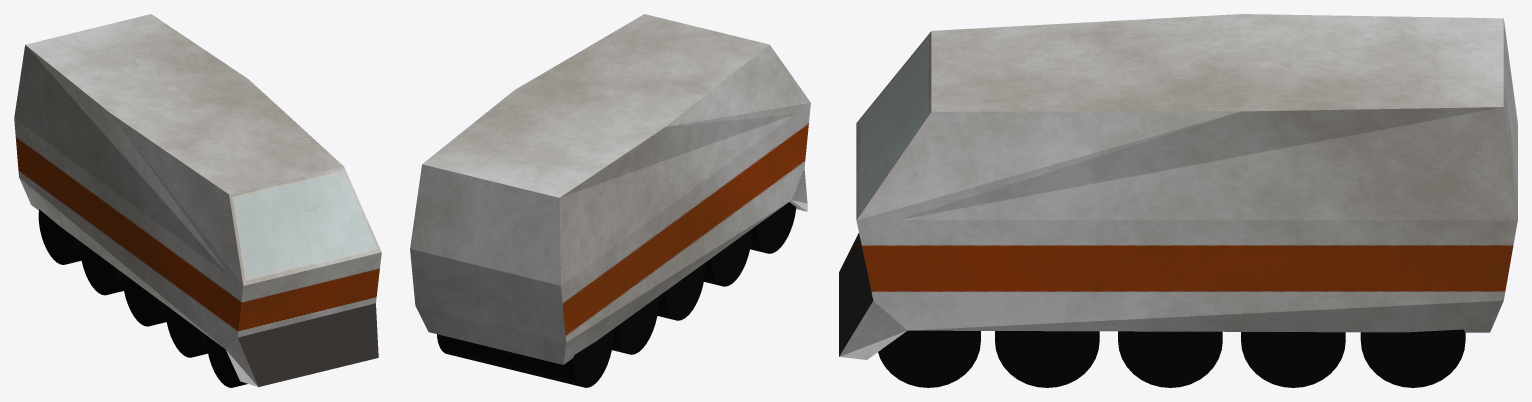
Rendered from train.dae.
3 renders of one model, left to right at view 1: azimuth 30°, elevation 25°; view 2: azimuth 150°, elevation 25°; view 3: azimuth 270°, elevation 25°, orthographic. The views are drawn at different scales.
Visible parts, largest first — view 1: Engine, Wheel 5, Wheel 4, Wheel 3, Wheel 2, Wheel 1; view 2: Engine, Wheel 5, Wheel 4, Wheel 3, Wheel 2, Wheel 1; view 3: Engine, Wheel 3, Wheel 2, Wheel 5, Wheel 4, Wheel 1.
Part boxes in pixels (x1,y1,x2,y2): Engine: [14, 14, 381, 386]; Wheel 5: [38, 209, 81, 264]; Wheel 4: [80, 242, 123, 295]; Wheel 3: [122, 273, 166, 326]; Wheel 2: [165, 305, 207, 357]; Wheel 1: [206, 335, 247, 387]; Engine: [410, 14, 810, 364]; Wheel 5: [437, 329, 613, 387]; Wheel 4: [612, 296, 658, 354]; Wheel 3: [657, 263, 705, 320]; Wheel 2: [704, 229, 751, 286]; Wheel 1: [750, 202, 796, 253]; Engine: [839, 14, 1517, 359]; Wheel 3: [1118, 331, 1222, 387]; Wheel 2: [995, 331, 1099, 387]; Wheel 5: [1360, 329, 1465, 387]; Wheel 4: [1241, 332, 1345, 387]; Wheel 1: [878, 330, 980, 387].
Size of the model in its own units: 4.4 by 12.95 by 5.92.
Materials: 2 (2 with a texture image).
